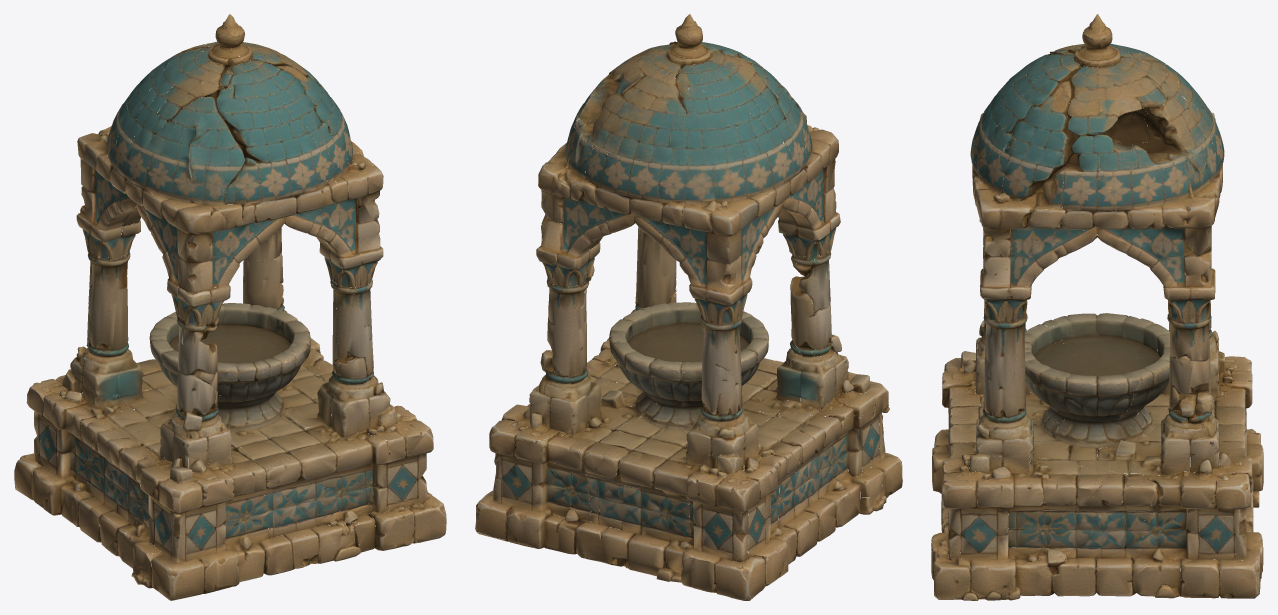
File: desert-shrine-tripo.glb
3 renders of one model, left to right at view 1: azimuth 30°, elevation 25°; view 2: azimuth 150°, elevation 25°; view 3: azimuth 270°, elevation 25°, orthographic. The views are drawn at different scales.
Visible parts, largest first — view 1: tripo_node_baa489a2-af3b-483b-8541-ccee53c25e67; view 2: tripo_node_baa489a2-af3b-483b-8541-ccee53c25e67; view 3: tripo_node_baa489a2-af3b-483b-8541-ccee53c25e67.
Boxes of the visible parts, left/top/right/bottom form: tripo_node_baa489a2-af3b-483b-8541-ccee53c25e67: left=14, top=14, right=446, bottom=600; tripo_node_baa489a2-af3b-483b-8541-ccee53c25e67: left=475, top=14, right=902, bottom=600; tripo_node_baa489a2-af3b-483b-8541-ccee53c25e67: left=931, top=14, right=1263, bottom=600.
Size of the model in its own units: 0.5997 by 1 by 0.5839.
Materials: 1 (1 with a texture image).
